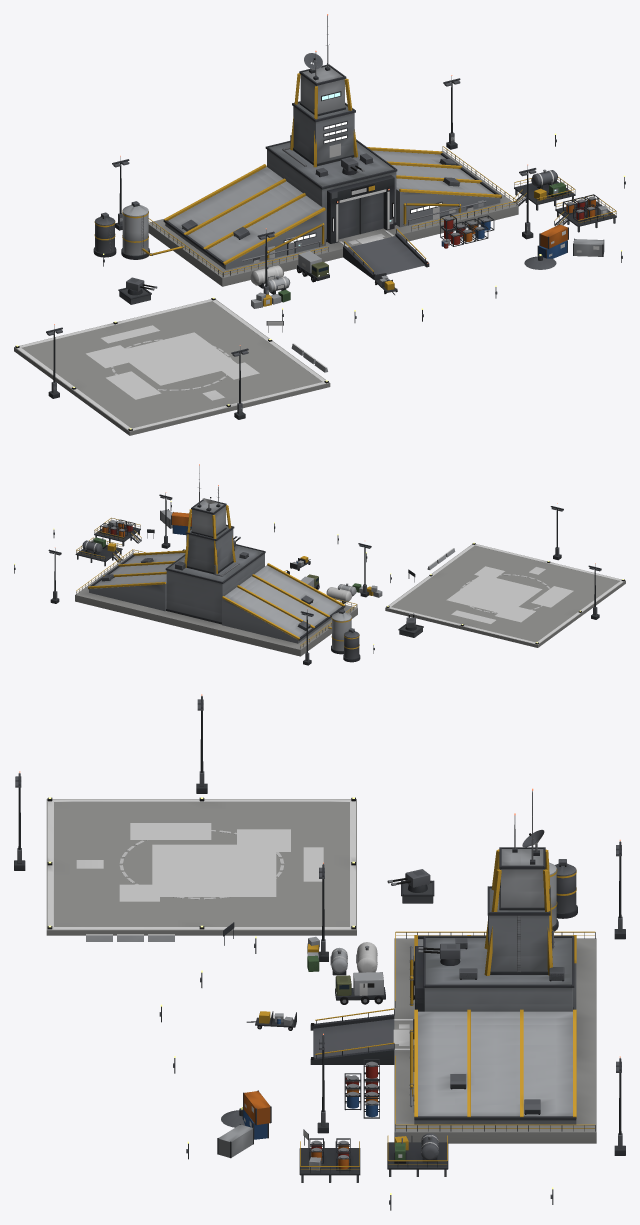
Rendered from Aussenposten.aa14c1e575.glb.
3 views of the same model, one above another, from view 1: azimuth 30°, elevation 25°; view 2: azimuth 150°, elevation 25°; view 3: azimuth 270°, elevation 25° (orthographic). The views are drawn at different scales.
Parts seen in each view (by area): view 1: Aussenposten_Kit; view 2: Aussenposten_Kit; view 3: Aussenposten_Kit.
Boxes of the visible parts, box(x1,y1,x2,y2) form: Aussenposten_Kit: box(14, 14, 625, 435); Aussenposten_Kit: box(14, 464, 625, 665); Aussenposten_Kit: box(14, 694, 625, 1210).
Size of the model in its own units: 149 by 43.1 by 90.71.
